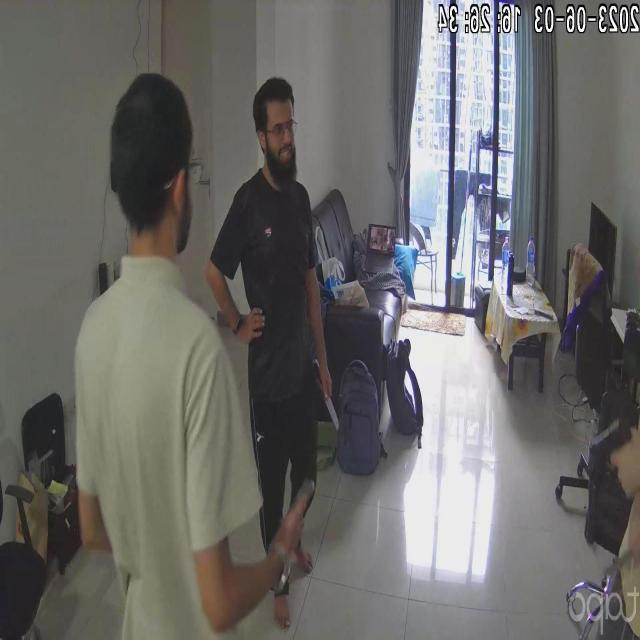Knife: (308, 361, 361, 439)
